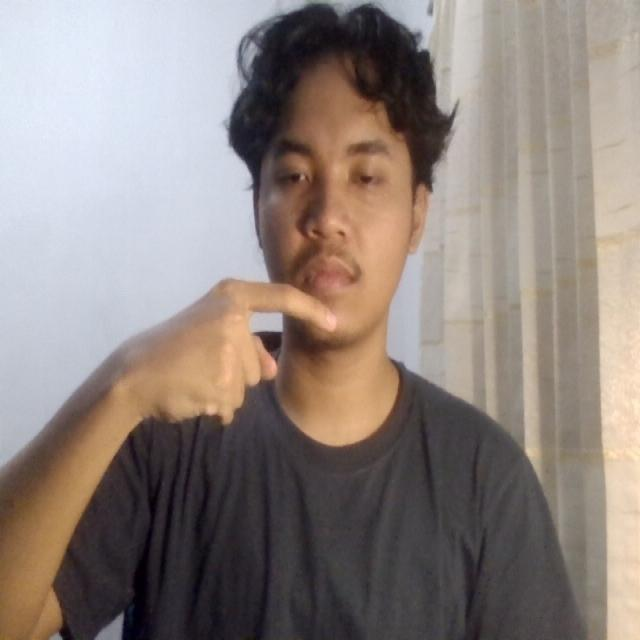N: (132, 253, 352, 463)
